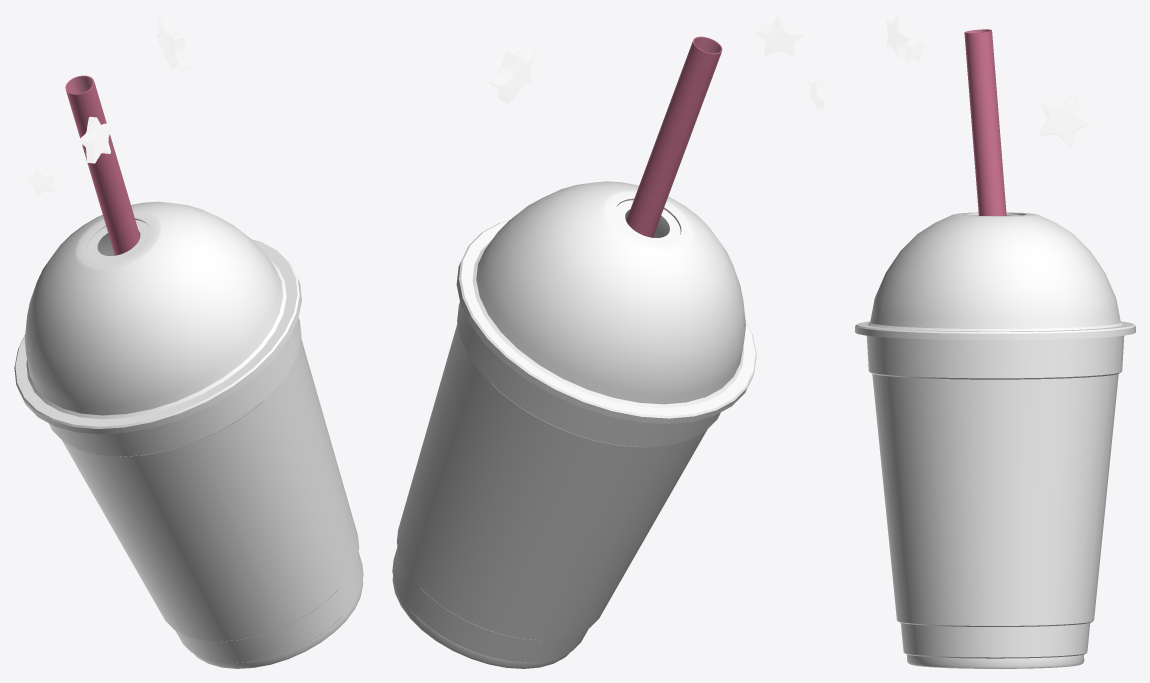
Rendered from boba_mat.glb.
3 views of the same model, side by side, from view 1: azimuth 30°, elevation 25°; view 2: azimuth 150°, elevation 25°; view 3: azimuth 270°, elevation 25° (orthographic). The views are drawn at different scales.
Parts seen in each view (by area): view 1: cup, lid, straw, s, s.001, s.002; view 2: cup, lid, straw, s, s.001; view 3: cup, lid, straw, s, s.001.
Boxes of the visible parts, x1,y1,x2,y2 form: cup: (49,318,363,668); lid: (14,201,301,434); straw: (65,75,140,255); s: (156,14,190,70); s.001: (79,116,111,163); s.002: (26,165,56,196); cup: (392,302,720,668); lid: (456,181,756,423); straw: (626,36,722,237); s: (490,45,536,104); s.001: (755,14,804,57); cup: (866,335,1124,668); lid: (855,212,1135,340); straw: (964,29,1006,215); s: (1039,93,1092,147); s.001: (886,14,911,57).
Bounding box in the file's own units: 3.24 × 5.25 × 2.33.
